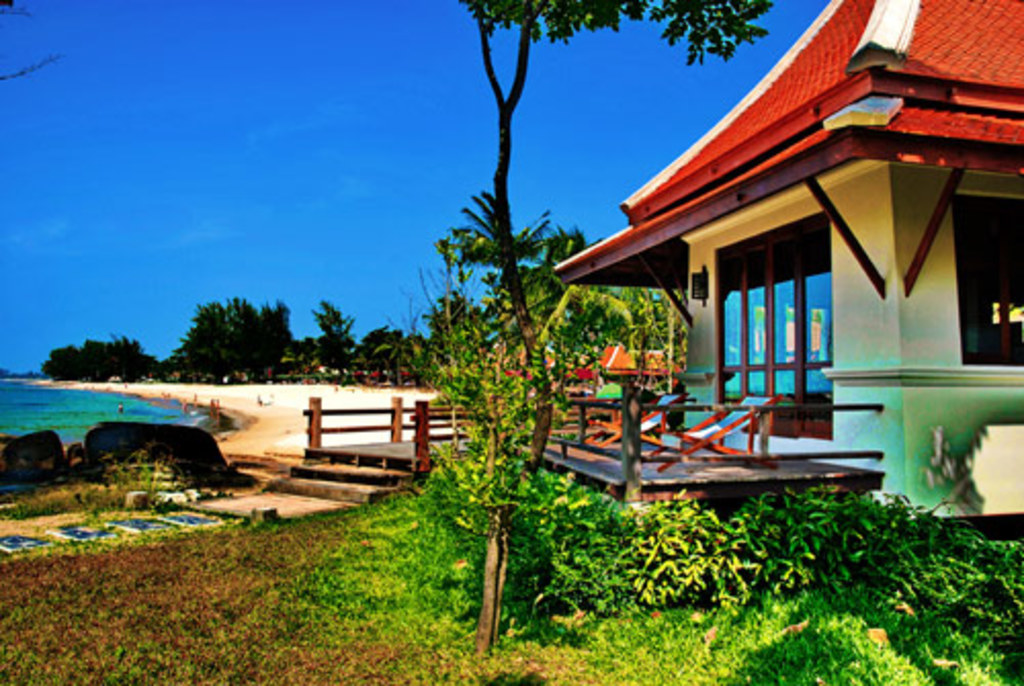Tree: (455, 0, 774, 651)
